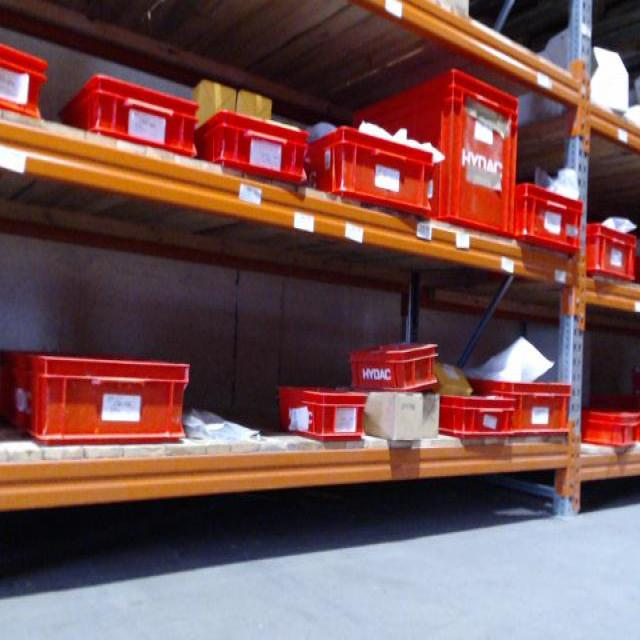small_load_carrier: (337, 57, 513, 229), (4, 355, 187, 446), (57, 73, 202, 166), (313, 120, 437, 228), (194, 107, 306, 190), (463, 369, 580, 438), (274, 387, 366, 443), (3, 38, 56, 132), (514, 183, 582, 253), (350, 343, 438, 397), (439, 389, 516, 441), (581, 223, 638, 285), (580, 403, 638, 447)
